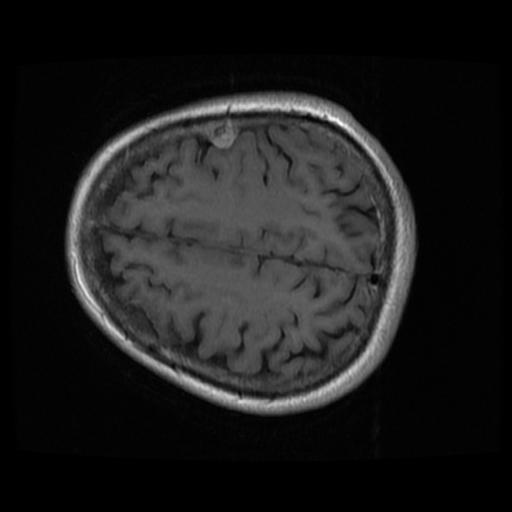meningioma: (206, 124, 234, 150)
